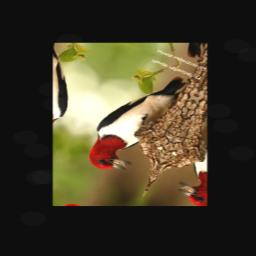Woodpecker: (78, 59, 187, 182)
